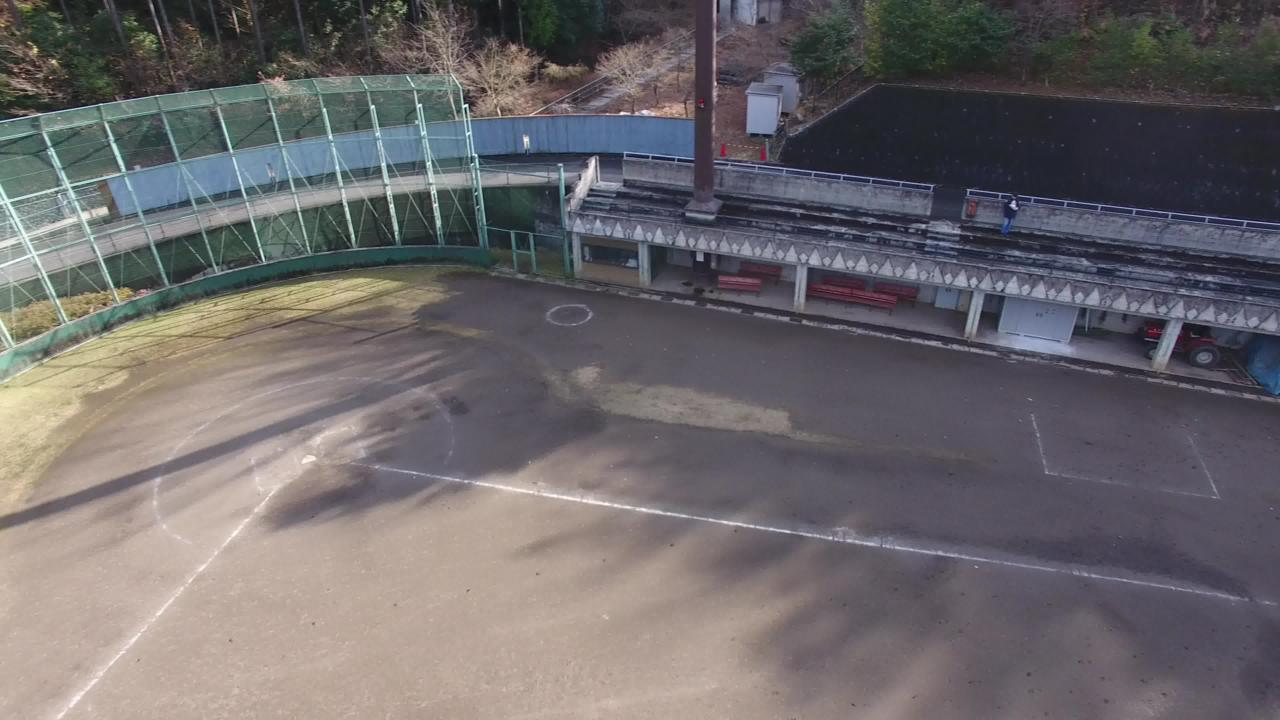person: (989, 189, 1028, 241)
